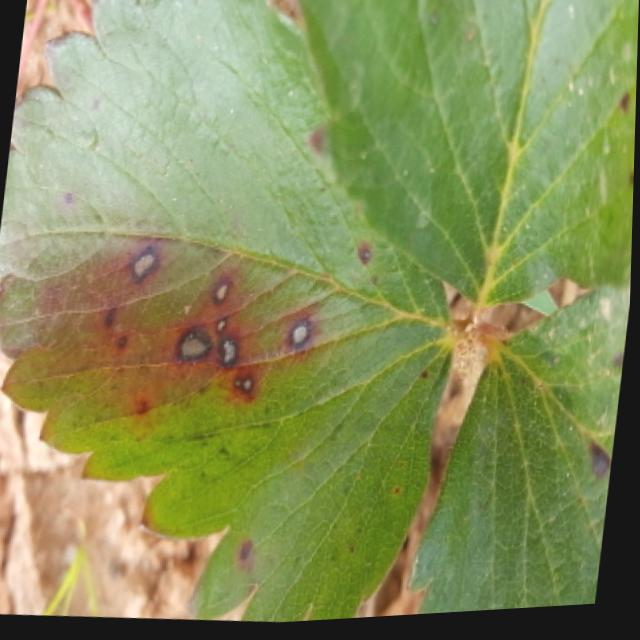Leaf Spot: (0, 0, 463, 626), (301, 0, 639, 313), (409, 290, 633, 620)
